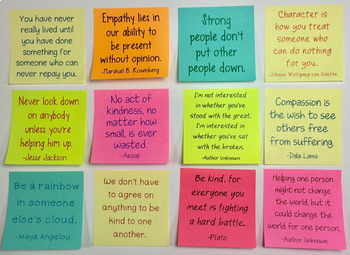stickynote: (86, 86, 178, 168), (1, 172, 90, 253), (262, 83, 346, 168), (176, 167, 261, 251), (261, 167, 345, 251), (259, 3, 346, 83), (178, 86, 262, 168), (4, 3, 89, 84), (174, 3, 259, 84), (1, 88, 89, 166), (92, 169, 174, 249), (90, 5, 173, 84)
